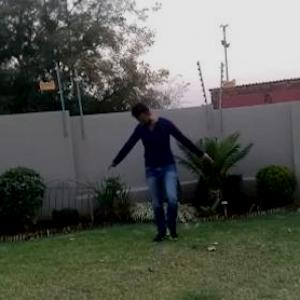land: (95, 93, 208, 257)
